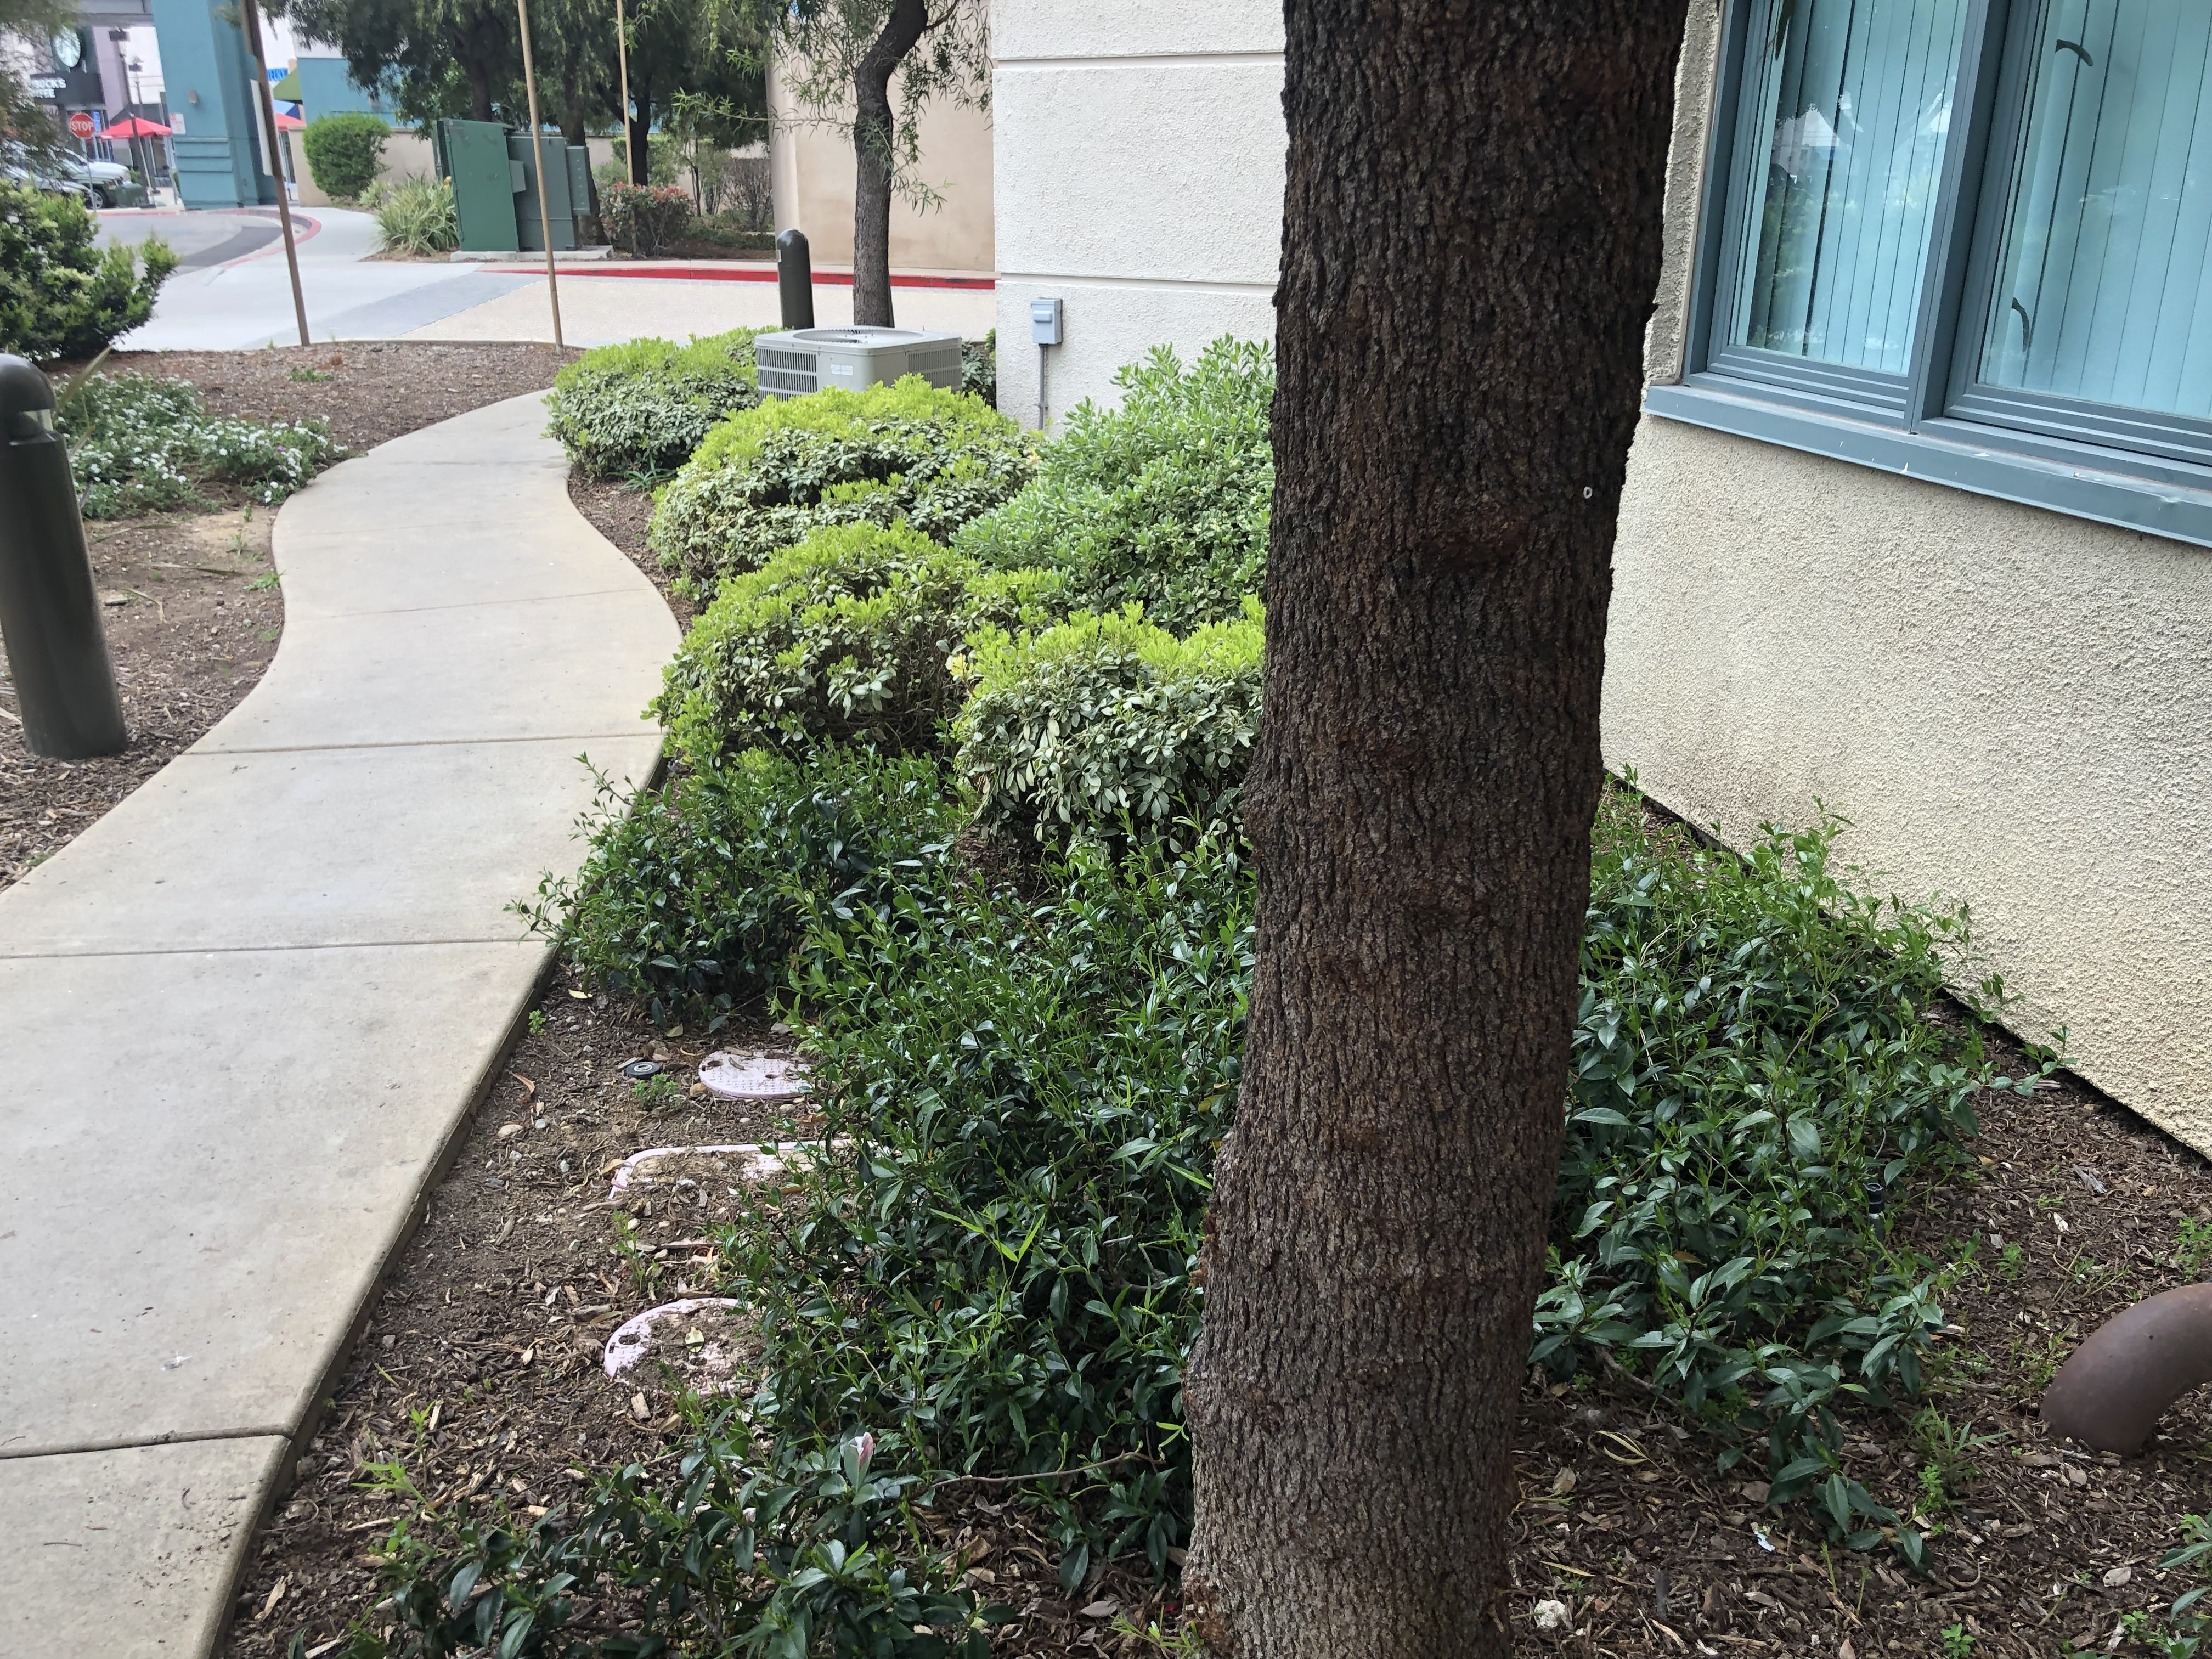Edge: (244, 457, 690, 1626), (3, 385, 542, 894)
Obstacle: (1214, 3, 1669, 1626)
